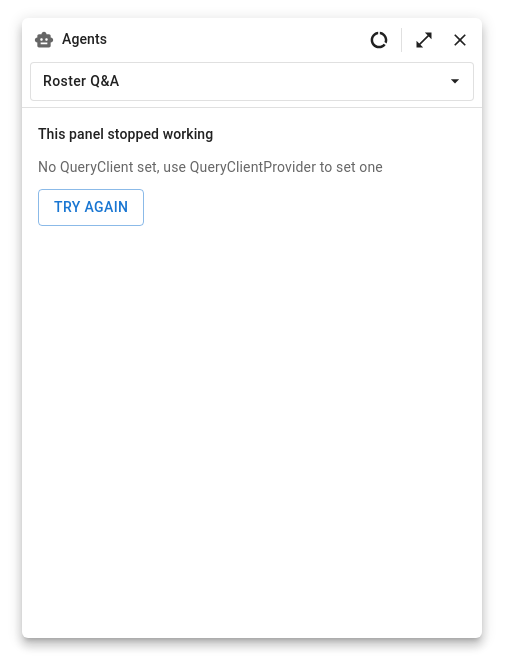
Test: Roster Scan tab › shows progress and settled rows while pending rows stay hidden
Click the button "Roster Q&A".
click(81, 81)  # box x1=30 y1=62 x2=474 y2=100
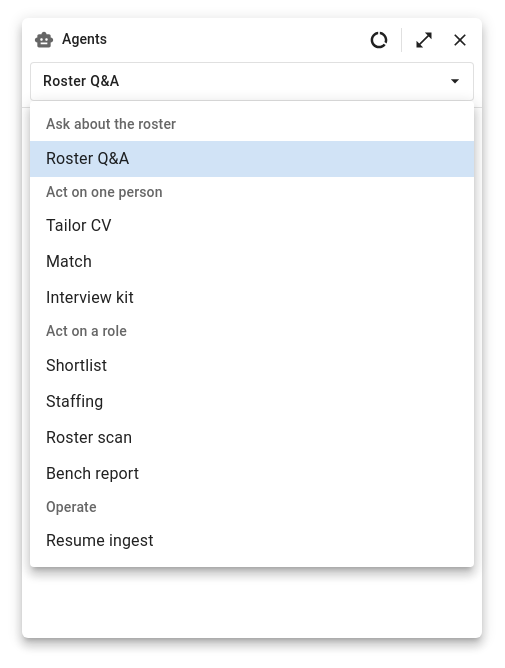
Click the menu item "Roster scan".
click(89, 437)  # box x1=46 y1=428 x2=132 y2=446
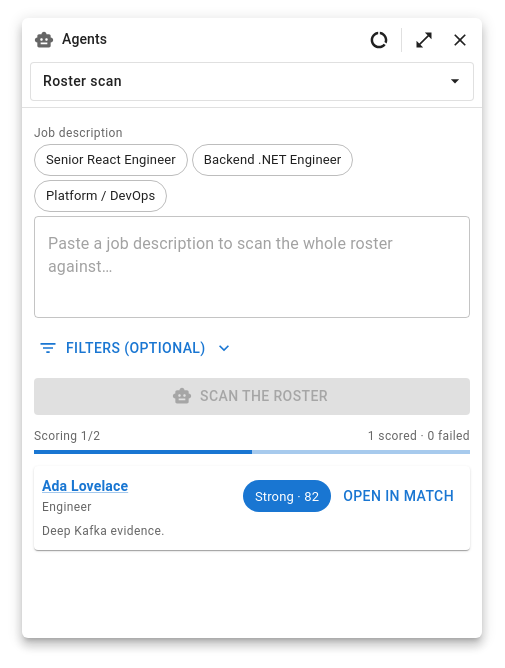
Result: the text "Scoring 1/2" is shown at x1=34 y1=426 x2=100 y2=446
